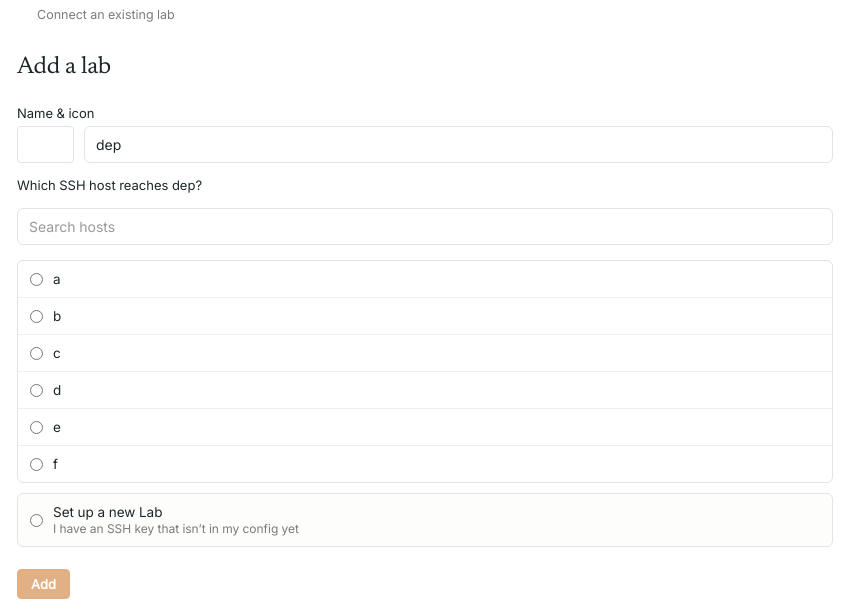
ConfigureForm › host search appears only with more than five hosts
Type "zz" into the search field named "Search SSH hosts" at coordinates (425, 226), box [17,208,833,245]
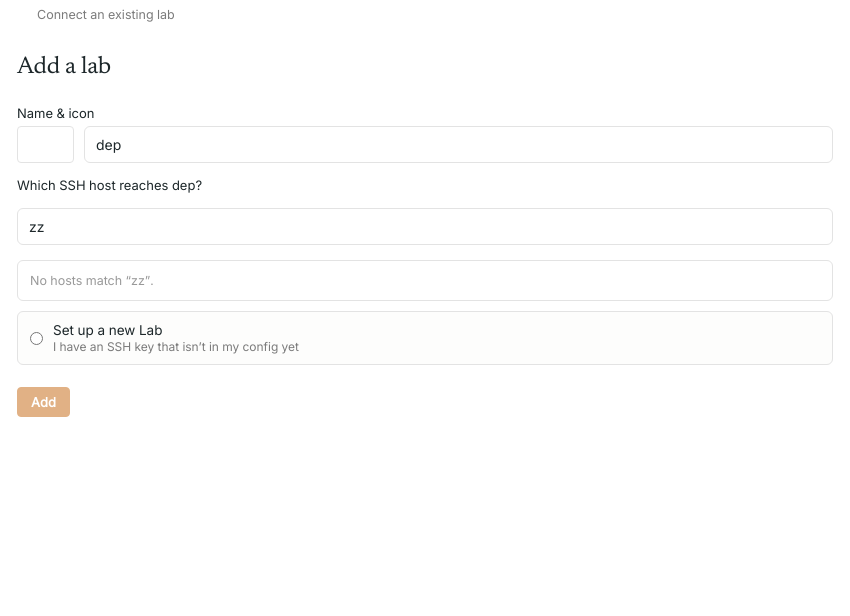
Check: the list item "No hosts match “zz”." is shown, box [30,273,154,288]
